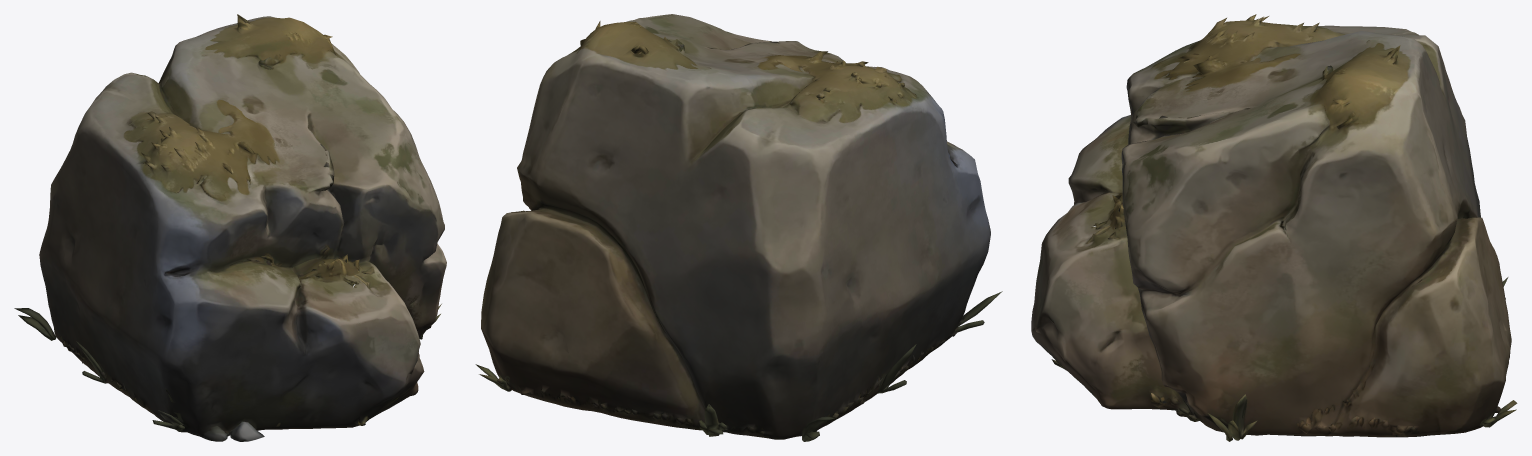
The model's file is natural rock 3d model.glb.
The picture shows the model from 3 angles, left to right: view 1: azimuth 30°, elevation 25°; view 2: azimuth 150°, elevation 25°; view 3: azimuth 270°, elevation 25°; orthographic projection. The views are drawn at different scales.
Parts seen in each view (by area): view 1: tripo_node_80d76a85-b3a2-4d32-b89d-66a589c49ba5; view 2: tripo_node_80d76a85-b3a2-4d32-b89d-66a589c49ba5; view 3: tripo_node_80d76a85-b3a2-4d32-b89d-66a589c49ba5.
Part boxes in pixels (<box>): tripo_node_80d76a85-b3a2-4d32-b89d-66a589c49ba5: <box>14,14,446,441</box>; tripo_node_80d76a85-b3a2-4d32-b89d-66a589c49ba5: <box>475,14,1002,441</box>; tripo_node_80d76a85-b3a2-4d32-b89d-66a589c49ba5: <box>1031,14,1517,441</box>.
Bounding box in the file's own units: 0.8816 × 0.7478 × 0.9772.
Materials: 1 (1 with a texture image).
